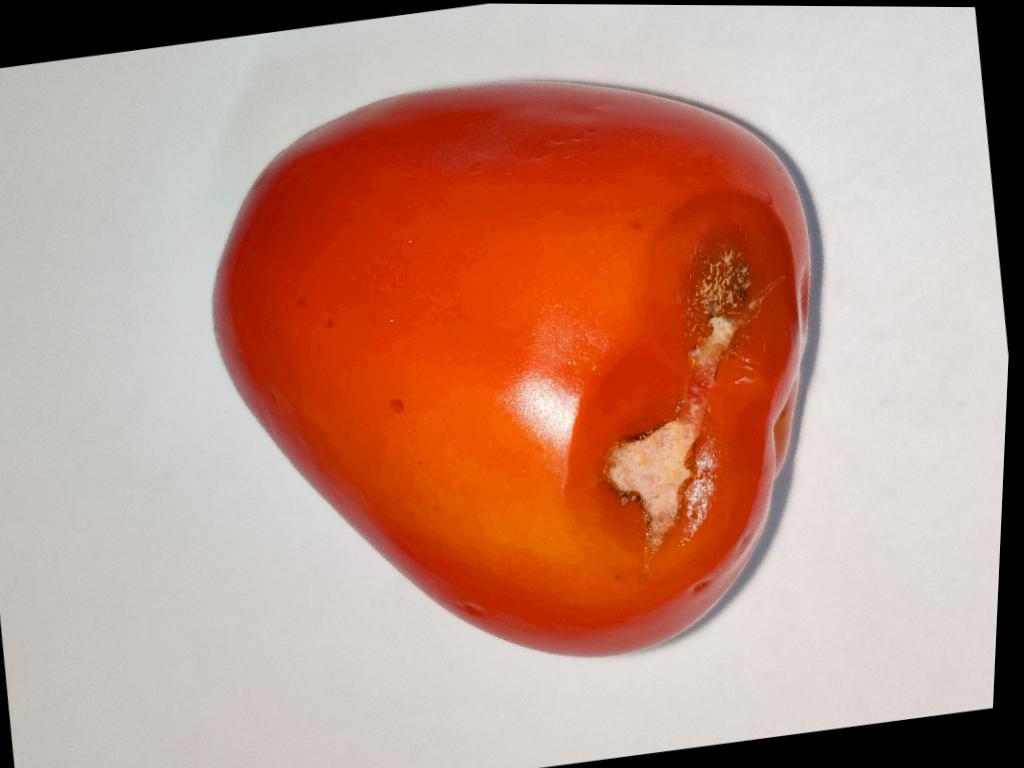bruise_discoloration: (565, 192, 798, 585)
surface_damage: (605, 274, 785, 582), (679, 243, 753, 351)
tomato: (215, 84, 810, 655)
